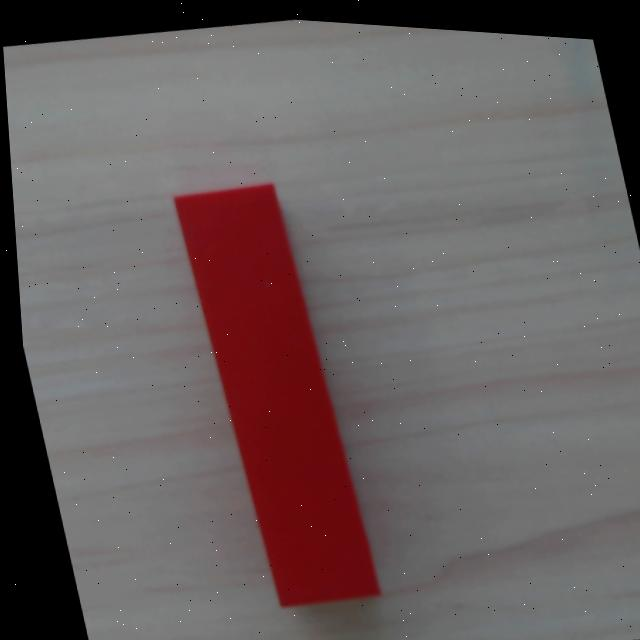Balok-Merah-1002525: (171, 173, 382, 620)
